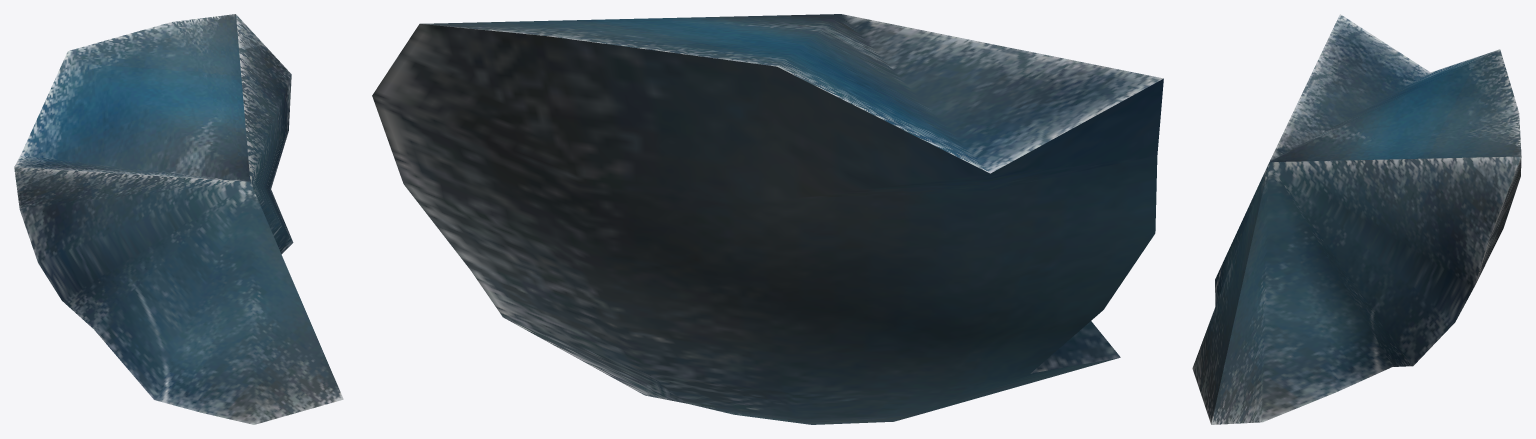
File: orb_1_of_6.dae
The picture shows the model from 3 angles, left to right: view 1: azimuth 30°, elevation 25°; view 2: azimuth 150°, elevation 25°; view 3: azimuth 270°, elevation 25°; orthographic projection. The views are drawn at different scales.
Parts seen in each view (by area): view 1: orb1; view 2: orb1; view 3: orb1.
Boxes of the visible parts, box(x1,y1,x2,y2) form: orb1: box(14, 14, 343, 424); orb1: box(372, 14, 1163, 424); orb1: box(1192, 14, 1521, 424).
Bounding box in the file's own units: 0.2802 × 0.2187 × 0.2156.
